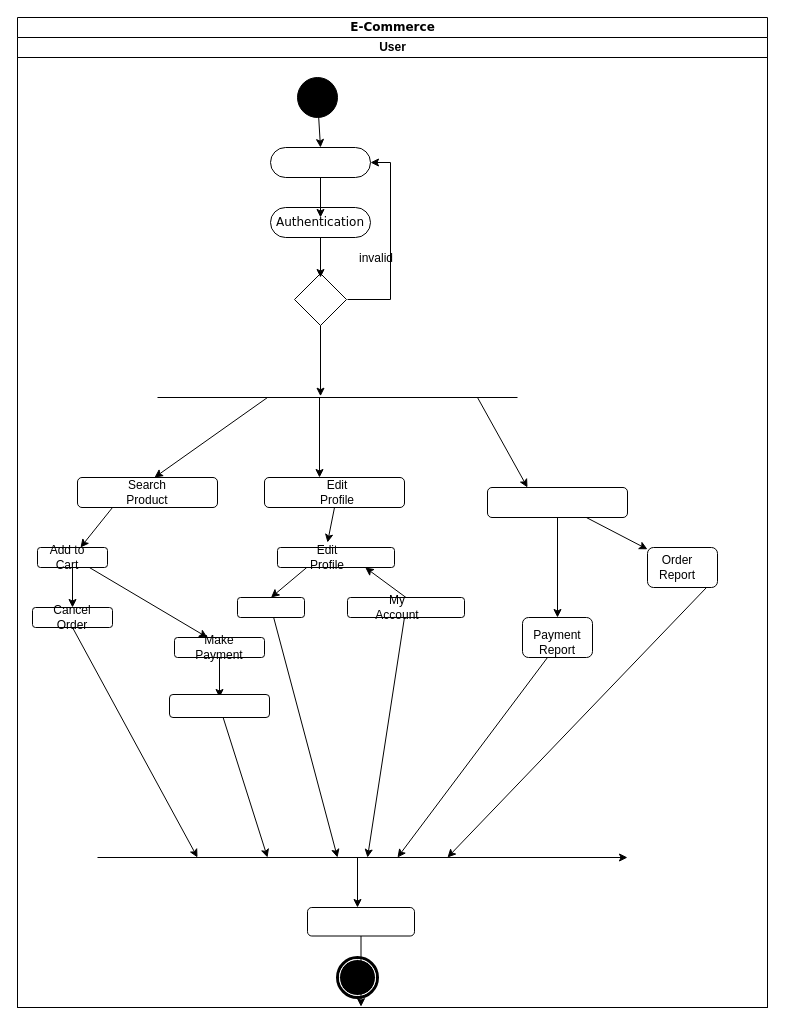
This 785x1033 diagram has some shape labels left out. Each missing label, with the centre of its shape:
"Change Password" goes at pixel 270 607.
"check" goes at pixel 320 299.
"Confirm Order" goes at pixel 219 706.
"Login" goes at pixel 320 162.
"Logout" goes at pixel 360 921.
"View Reports" goes at pixel 557 502.
